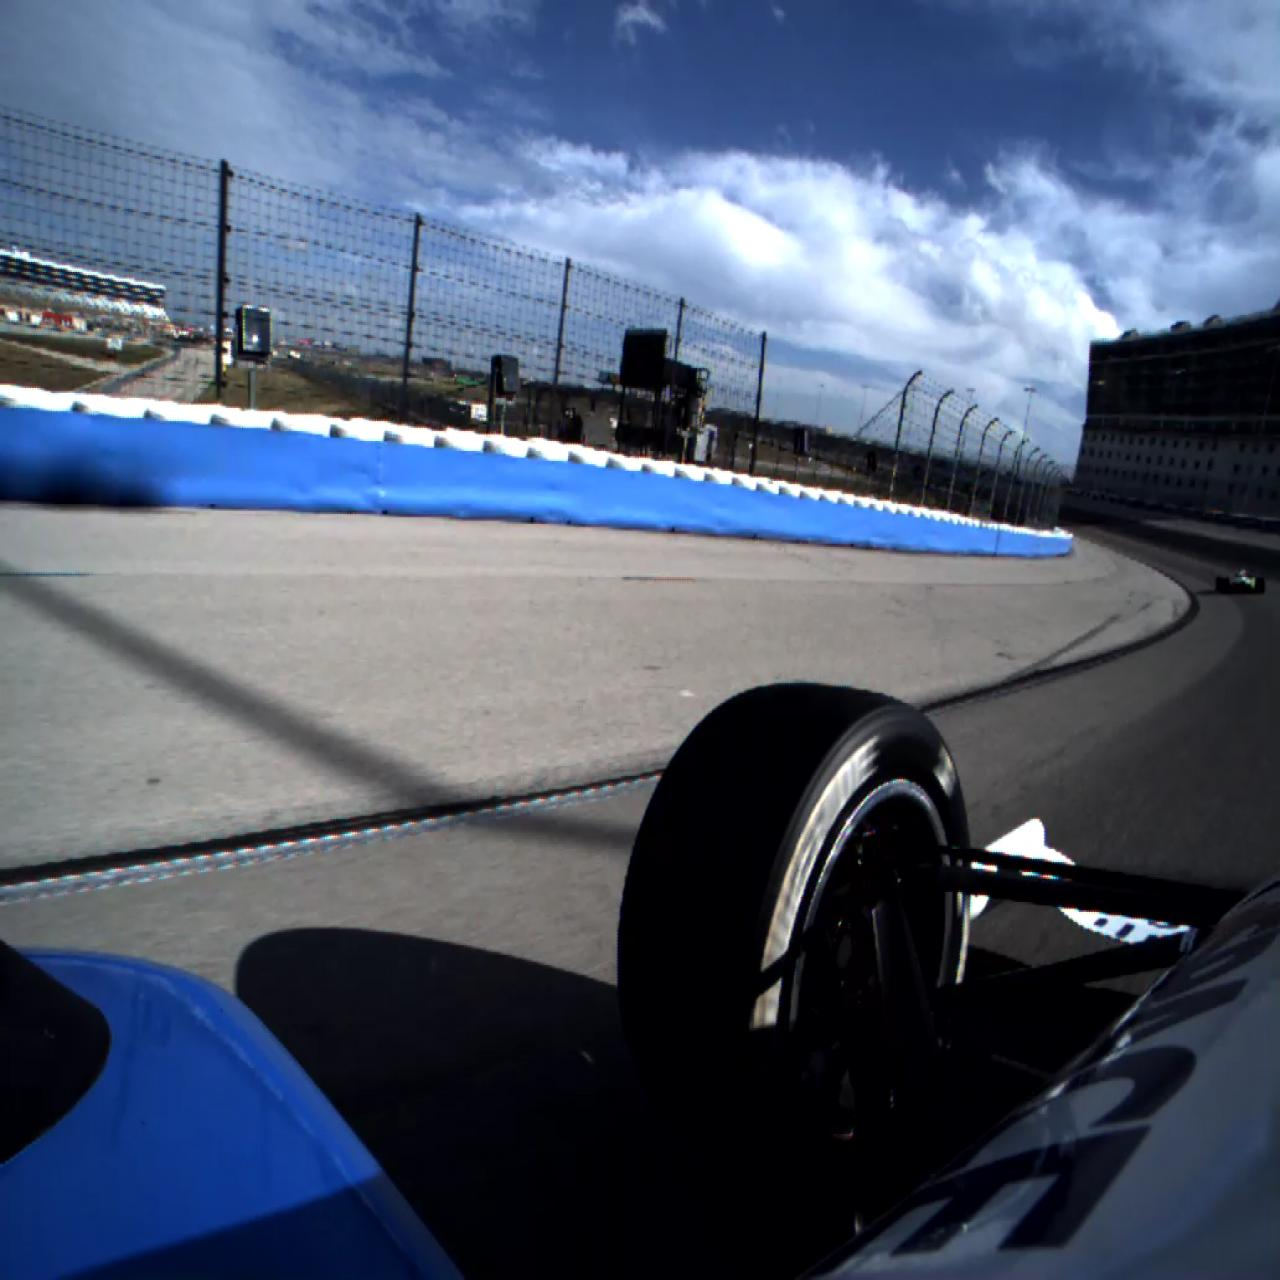AV: (1214, 566, 1266, 597)
Wheel: (615, 681, 972, 1197), (1216, 576, 1228, 595), (1255, 577, 1266, 595)
